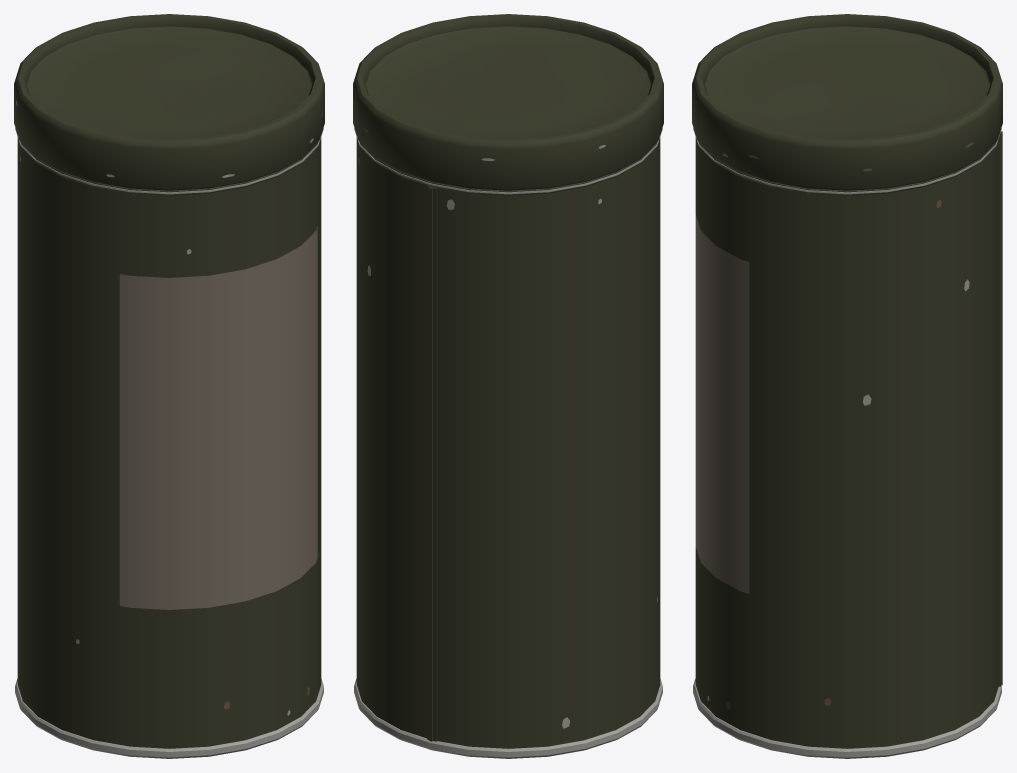
Rendered from coffee-storage-tin-b4ee3af27962.glb.
The picture shows the model from 3 angles, left to right: view 1: azimuth 30°, elevation 25°; view 2: azimuth 150°, elevation 25°; view 3: azimuth 270°, elevation 25°; orthographic projection.
Visible parts, largest first — view 1: paint-olive, cover-print, brushed; view 2: paint-olive, brushed; view 3: paint-olive, cover-print, brushed.
Boxes of the visible parts, left/top/right/bottom form: paint-olive: left=14, top=14, right=324, bottom=748; cover-print: left=119, top=226, right=317, bottom=609; brushed: left=15, top=101, right=323, bottom=758; paint-olive: left=353, top=14, right=663, bottom=748; brushed: left=354, top=128, right=662, bottom=758; paint-olive: left=692, top=14, right=1002, bottom=748; cover-print: left=695, top=215, right=749, bottom=593; brushed: left=693, top=128, right=1001, bottom=758.
Bounding box in the file's own units: 0.112 × 0.245 × 0.112.
